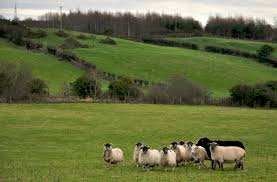sheep: (209, 143, 247, 171), (181, 138, 207, 173), (195, 136, 241, 155), (100, 142, 125, 168), (139, 144, 160, 167), (168, 140, 186, 164), (130, 140, 144, 167), (158, 146, 172, 169)
